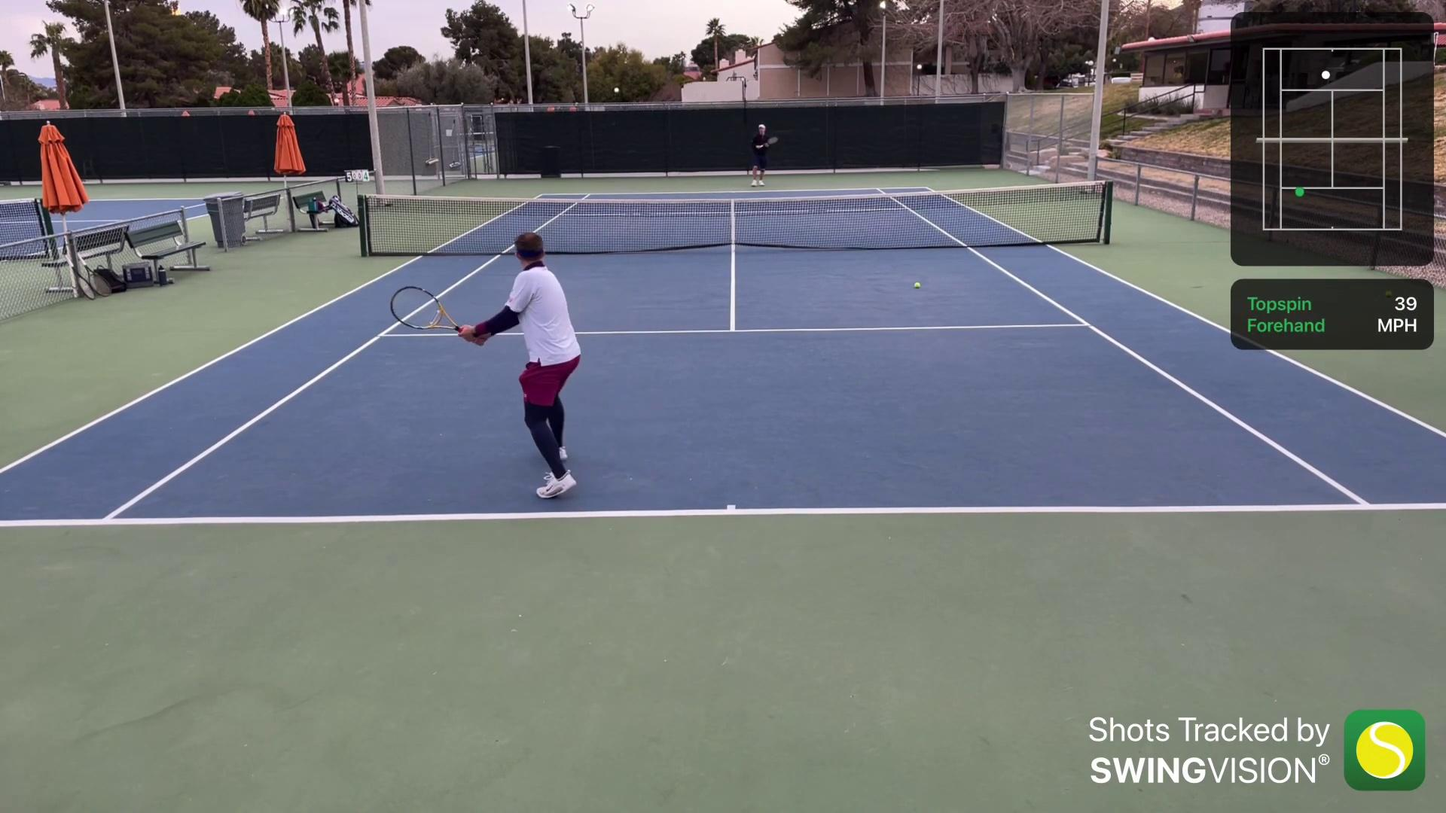ball: (912, 282, 922, 291)
